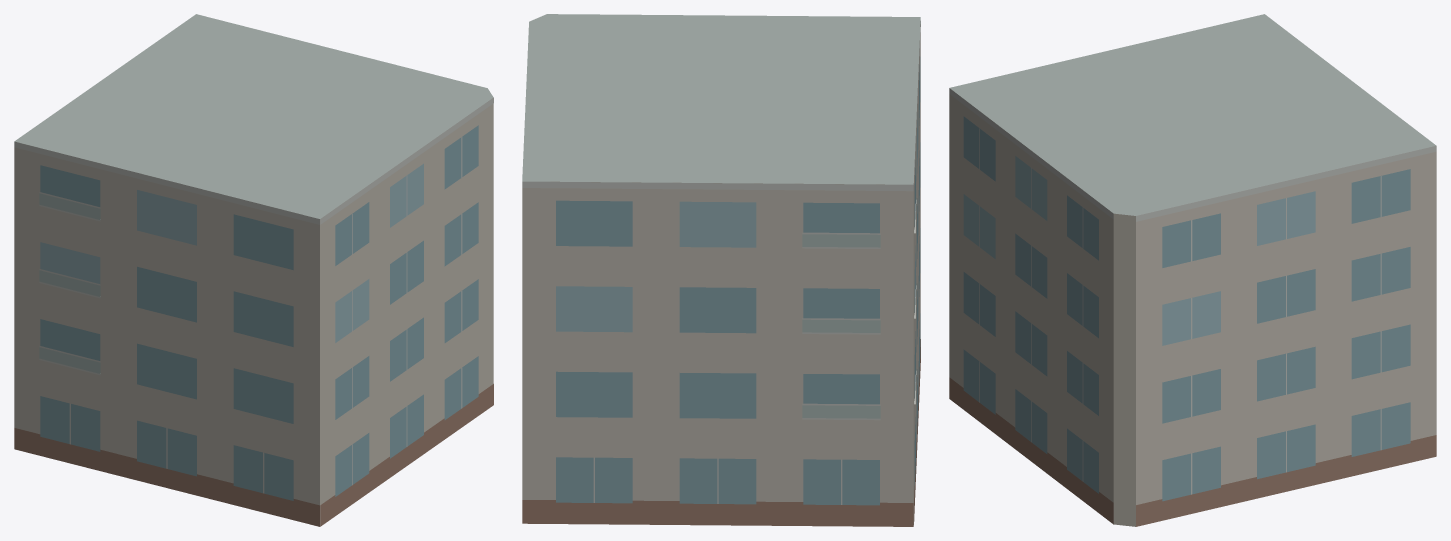
The model's file is survey-upis-32622065.glb.
3 views of the same model, side by side, from view 1: azimuth 30°, elevation 25°; view 2: azimuth 150°, elevation 25°; view 3: azimuth 270°, elevation 25° (orthographic). The views are drawn at different scales.
Parts seen in each view (by area): view 1: survey-upis-32622065.tmp; view 2: survey-upis-32622065.tmp; view 3: survey-upis-32622065.tmp.
Boxes of the visible parts, x1=… form: survey-upis-32622065.tmp: x1=14, y1=14, x2=493, y2=526; survey-upis-32622065.tmp: x1=522, y1=14, x2=920, y2=526; survey-upis-32622065.tmp: x1=949, y1=14, x2=1436, y2=526.
Size of the model in its own units: 17.84 by 12.8 by 18.19.
